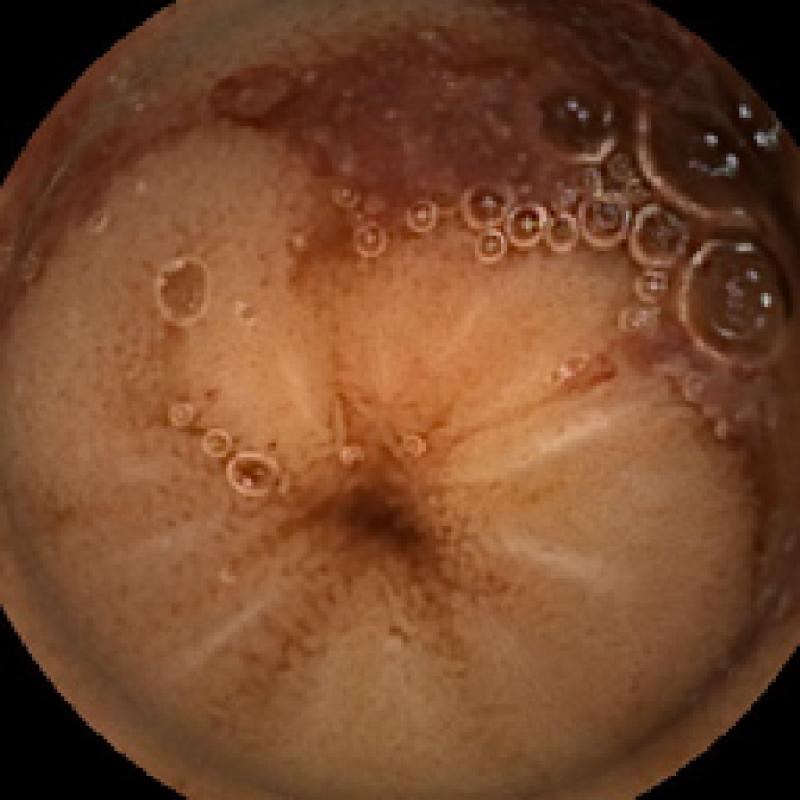bleeding: (207, 0, 800, 232)
